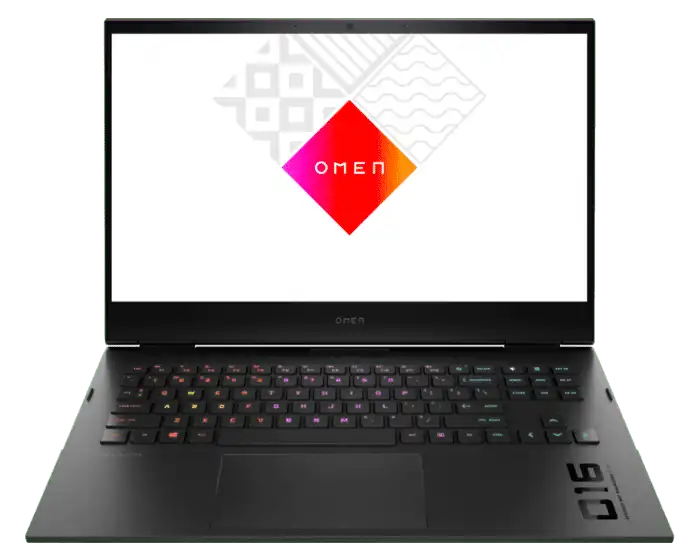laptop: (18, 16, 697, 560)
